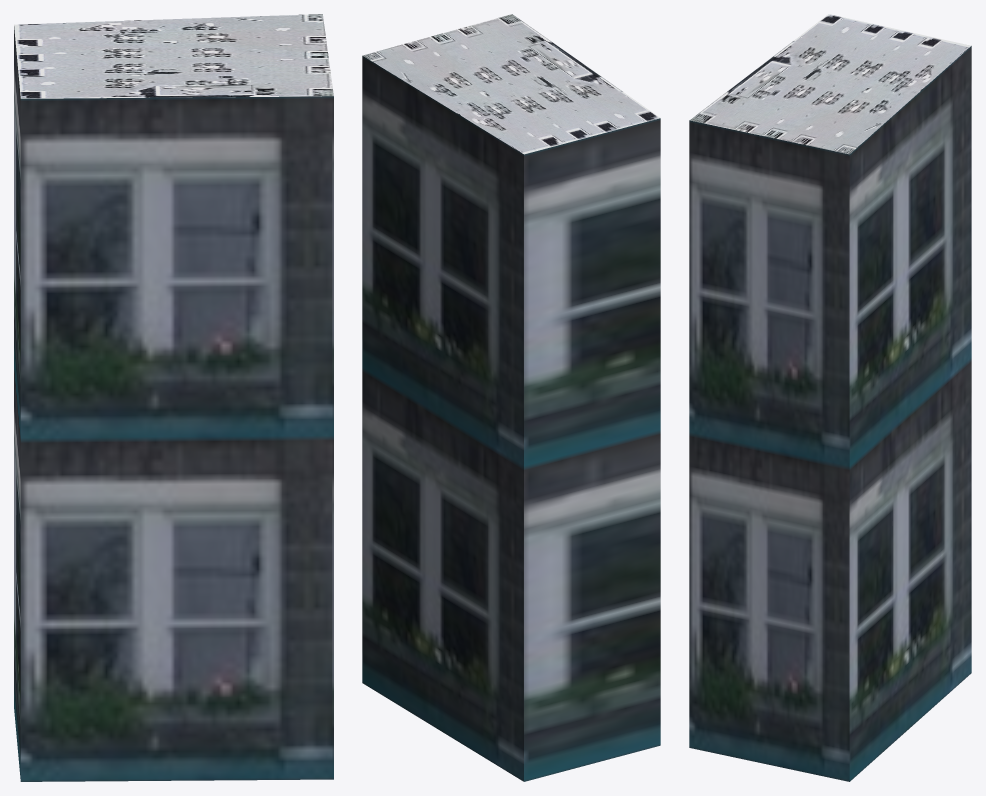
Rendered from ResTex__4065.fbx.
The picture shows the model from 3 angles, left to right: view 1: azimuth 30°, elevation 25°; view 2: azimuth 150°, elevation 25°; view 3: azimuth 270°, elevation 25°; orthographic projection. The views are drawn at different scales.
Visible parts, largest first — view 1: CityEngineMaterial_11_m, CityEngineMaterial_8_m; view 2: CityEngineMaterial_11_m, CityEngineMaterial_8_m; view 3: CityEngineMaterial_11_m, CityEngineMaterial_8_m.
Boxes of the visible parts, bbox=[...] form: CityEngineMaterial_11_m: bbox=[14, 26, 333, 781]; CityEngineMaterial_8_m: bbox=[14, 14, 333, 98]; CityEngineMaterial_11_m: bbox=[362, 56, 660, 781]; CityEngineMaterial_8_m: bbox=[362, 14, 660, 154]; CityEngineMaterial_11_m: bbox=[689, 46, 971, 781]; CityEngineMaterial_8_m: bbox=[690, 14, 970, 154].
Bounding box in the file's own units: 2.88 × 6 × 2.44.
2 materials, 2 textured.
